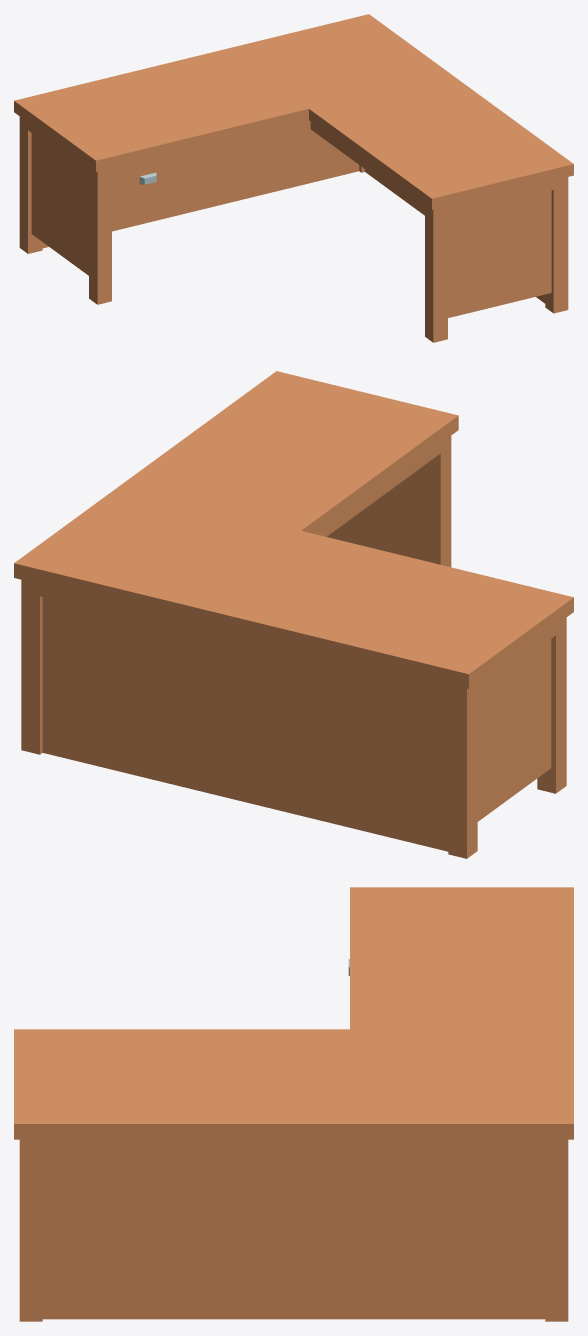
The model's file is Desk Corner.glb.
3 views of the same model, one above another, from view 1: azimuth 30°, elevation 25°; view 2: azimuth 150°, elevation 25°; view 3: azimuth 270°, elevation 25° (orthographic). The views are drawn at different scales.
Parts seen in each view (by area): view 1: deskCorner(Clone), drawer; view 2: deskCorner(Clone); view 3: deskCorner(Clone).
Part boxes in pixels (x1,y1,x2,y2): deskCorner(Clone): [14, 14, 573, 342]; drawer: [112, 160, 183, 196]; deskCorner(Clone): [14, 371, 573, 858]; deskCorner(Clone): [14, 887, 573, 1321].
Size of the model in its own units: 0.9745 by 0.3844 by 0.9745.
